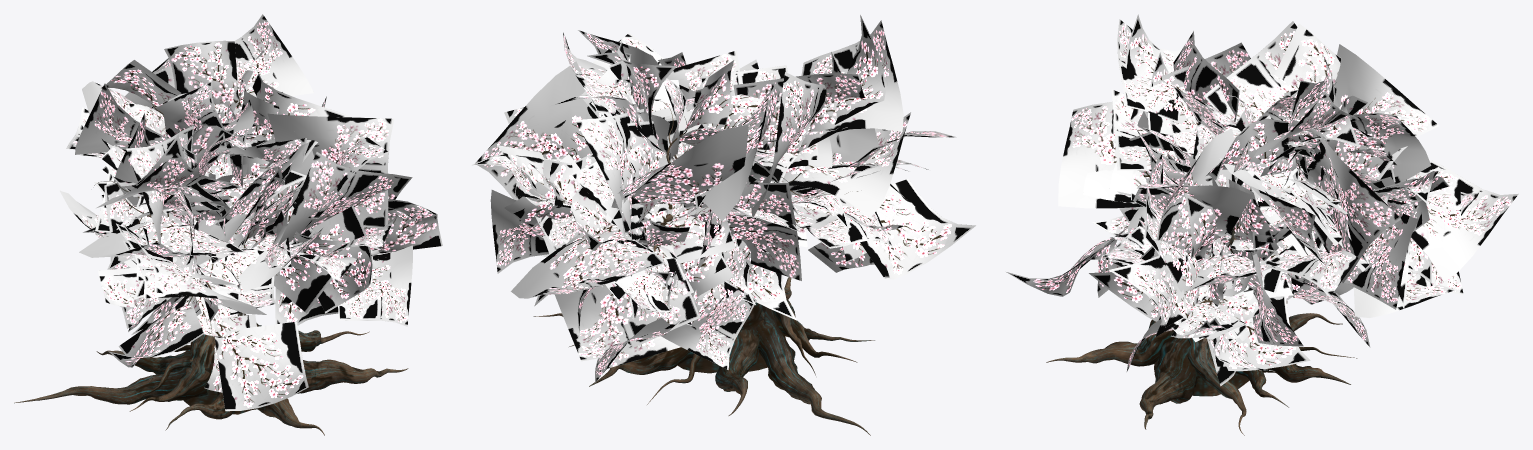
File: magic_tree1.glb
The picture shows the model from 3 angles, left to right: view 1: azimuth 30°, elevation 25°; view 2: azimuth 150°, elevation 25°; view 3: azimuth 270°, elevation 25°; orthographic projection. The views are drawn at different scales.
Visible parts, largest first — view 1: tree_low_Material #25_0, tree_low_Material #26_0, tree_low_Material #20_0, tree_low_Material #27_0, tree_low_Material #28_0; view 2: tree_low_Material #25_0, tree_low_Material #26_0, tree_low_Material #20_0, tree_low_Material #27_0, tree_low_Material #28_0; view 3: tree_low_Material #25_0, tree_low_Material #26_0, tree_low_Material #27_0, tree_low_Material #20_0, tree_low_Material #28_0.
Boxes of the visible parts, box(x1,y1,x2,y2) form: tree_low_Material #25_0: box(60, 14, 412, 331); tree_low_Material #26_0: box(94, 40, 442, 411); tree_low_Material #20_0: box(14, 87, 408, 435); tree_low_Material #27_0: box(98, 60, 374, 392); tree_low_Material #28_0: box(106, 70, 386, 318); tree_low_Material #25_0: box(475, 20, 956, 382); tree_low_Material #26_0: box(472, 15, 975, 332); tree_low_Material #20_0: box(533, 91, 876, 435); tree_low_Material #27_0: box(497, 60, 903, 296); tree_low_Material #28_0: box(504, 68, 787, 312); tree_low_Material #25_0: box(1058, 19, 1518, 371); tree_low_Material #26_0: box(1006, 14, 1449, 386); tree_low_Material #27_0: box(1087, 23, 1438, 341); tree_low_Material #20_0: box(1046, 82, 1375, 435); tree_low_Material #28_0: box(1127, 120, 1429, 342).
Bounding box in the file's own units: 7.87 × 6.62 × 9.55.
Materials: 5 (5 with a texture image).
